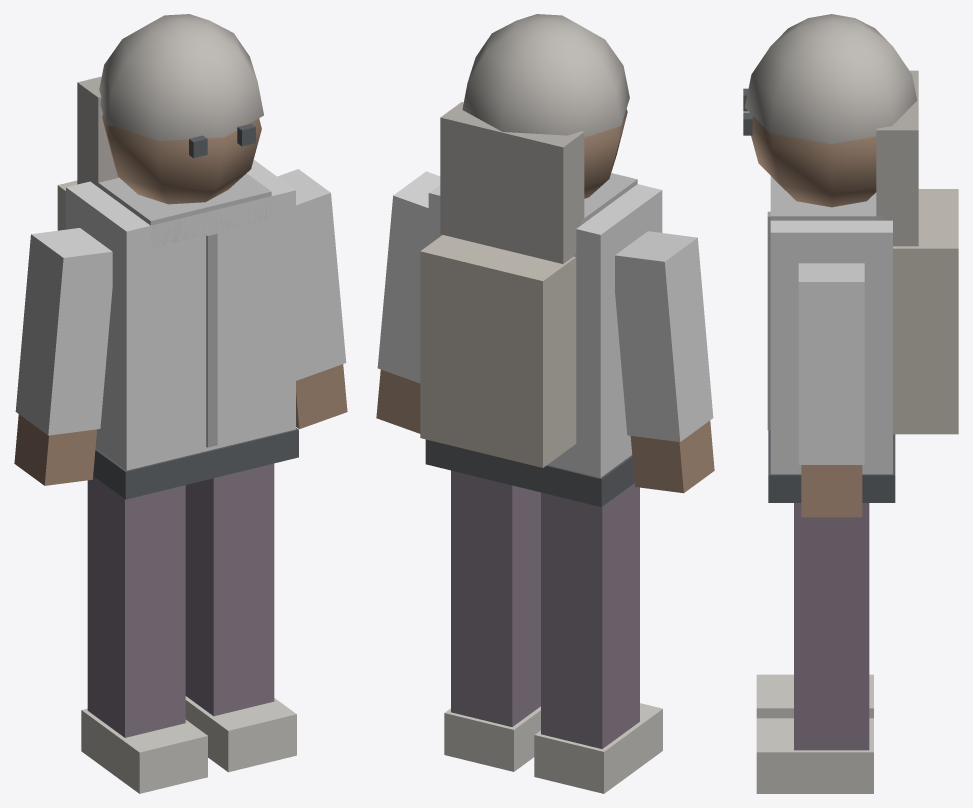
Rendered from walker_11.glb.
The picture shows the model from 3 angles, left to right: view 1: azimuth 30°, elevation 25°; view 2: azimuth 150°, elevation 25°; view 3: azimuth 270°, elevation 25°; orthographic projection.
Parts seen in each view (by area): view 1: walker_11; view 2: walker_11; view 3: walker_11.
Boxes of the visible parts, box(x1,y1,x2,y2) form: walker_11: box(14, 14, 347, 793); walker_11: box(376, 14, 714, 793); walker_11: box(743, 14, 958, 793).
Size of the model in its own units: 0.7512 by 1.72 by 0.458.
